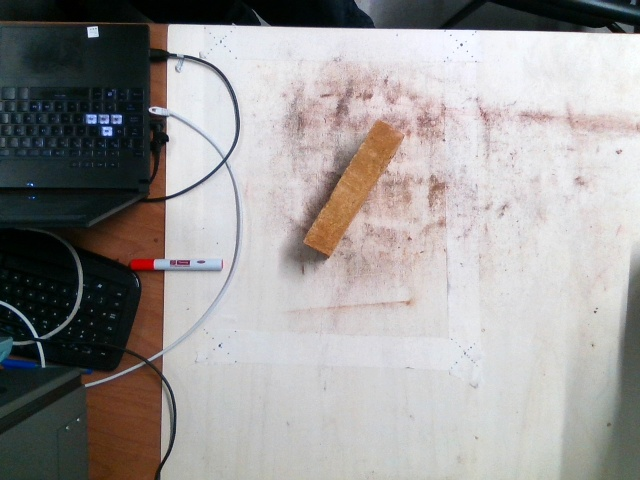brick-side: (301, 121, 405, 256)
